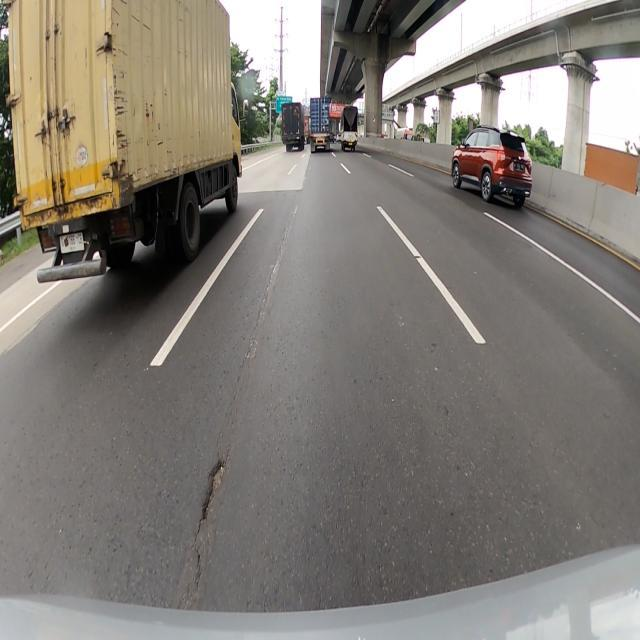Buraco: (196, 458, 232, 526)
